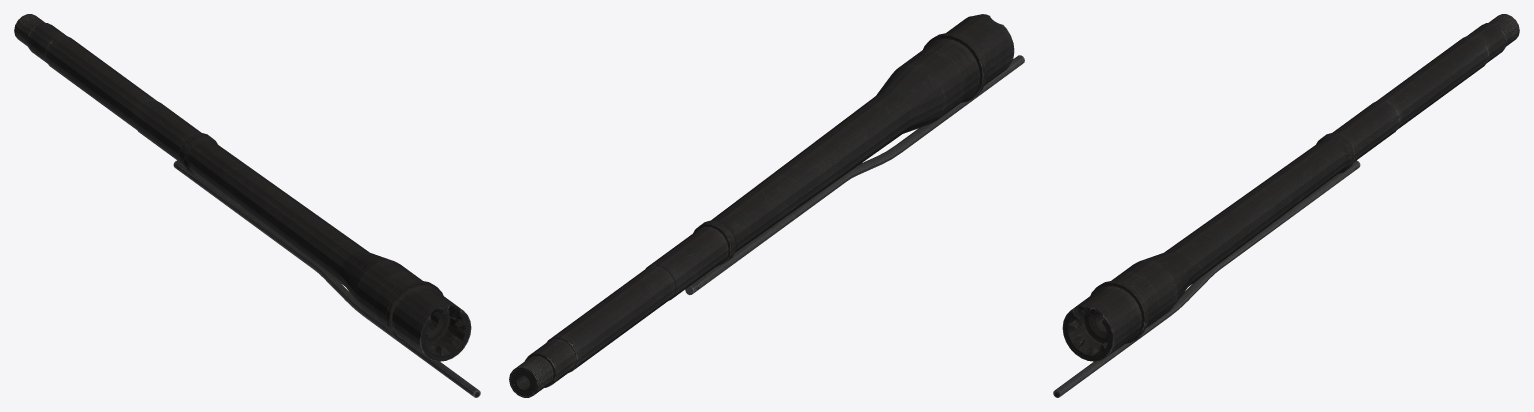
3 views of the same model, side by side, from view 1: azimuth 30°, elevation 25°; view 2: azimuth 150°, elevation 25°; view 3: azimuth 330°, elevation 25° (orthographic). The views are drawn at different scales.
Visible parts, largest first — view 1: TW_5df917564a9f347bc92edca3_PZ_Import; view 2: TW_5df917564a9f347bc92edca3_PZ_Import; view 3: TW_5df917564a9f347bc92edca3_PZ_Import.
Part boxes in pixels (left/top/right/bottom): TW_5df917564a9f347bc92edca3_PZ_Import: left=14, top=14, right=480, bottom=397; TW_5df917564a9f347bc92edca3_PZ_Import: left=509, top=14, right=1024, bottom=397; TW_5df917564a9f347bc92edca3_PZ_Import: left=1053, top=14, right=1519, bottom=397.
Size of the model in its own units: 0.0199 by 0.2727 by 0.0237.
1 material, 1 textured.
